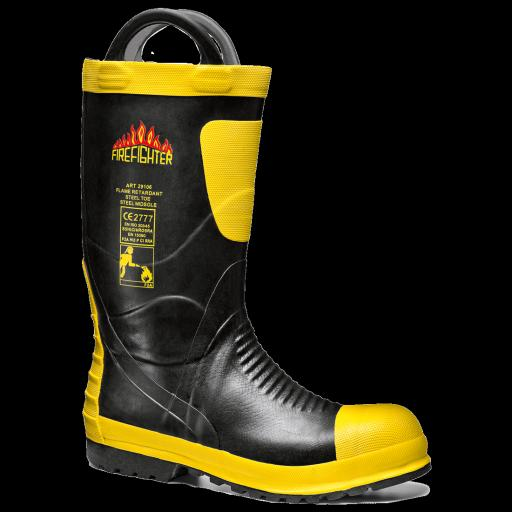safety_boots: (54, 39, 447, 512)
